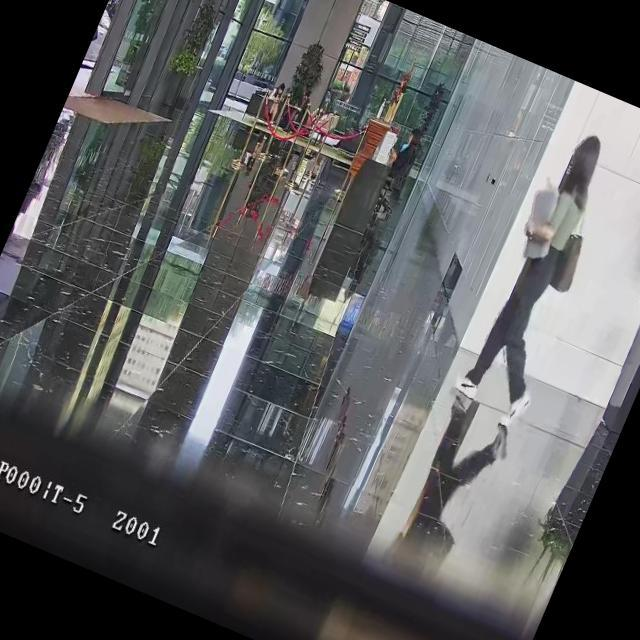person: (437, 121, 636, 452), (380, 121, 423, 181), (258, 79, 292, 130), (290, 88, 318, 125)
